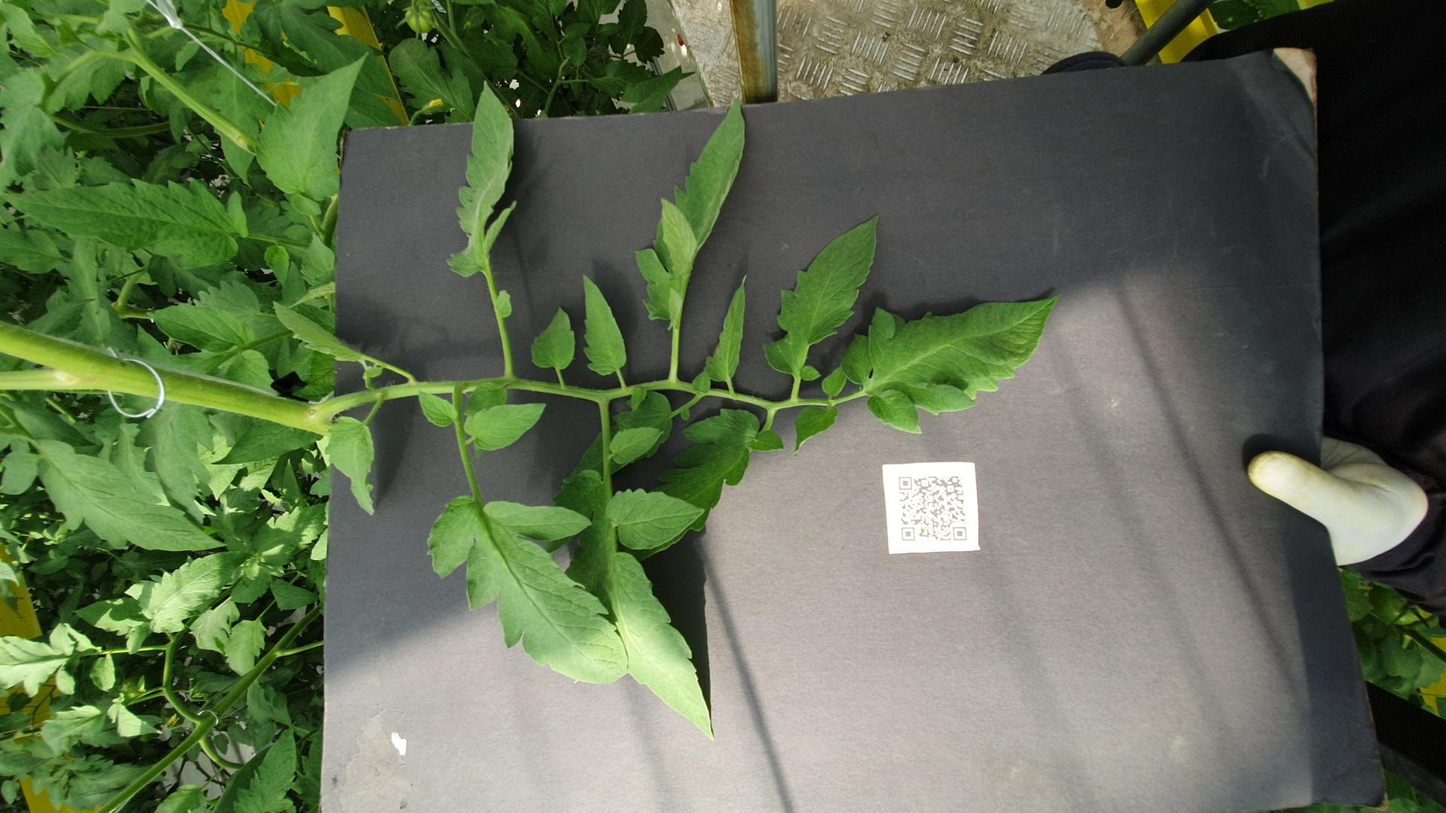Healthy: (129, 307, 612, 402), (226, 240, 567, 353), (670, 472, 924, 597), (858, 357, 1273, 419), (467, 0, 666, 128), (967, 0, 1131, 139), (770, 427, 1066, 495), (1059, 142, 1359, 208), (952, 250, 1304, 291), (539, 365, 720, 440), (319, 77, 466, 137), (0, 131, 165, 167), (618, 117, 703, 181), (803, 153, 910, 203), (527, 182, 707, 211), (822, 82, 904, 143), (441, 142, 552, 184), (281, 40, 384, 85), (768, 396, 957, 420), (778, 327, 959, 352), (644, 261, 731, 308), (788, 298, 900, 323), (243, 126, 344, 150), (633, 445, 725, 471), (621, 343, 687, 373), (941, 169, 1034, 188), (359, 152, 418, 180), (684, 235, 752, 258), (935, 148, 1011, 163), (216, 50, 284, 65)
